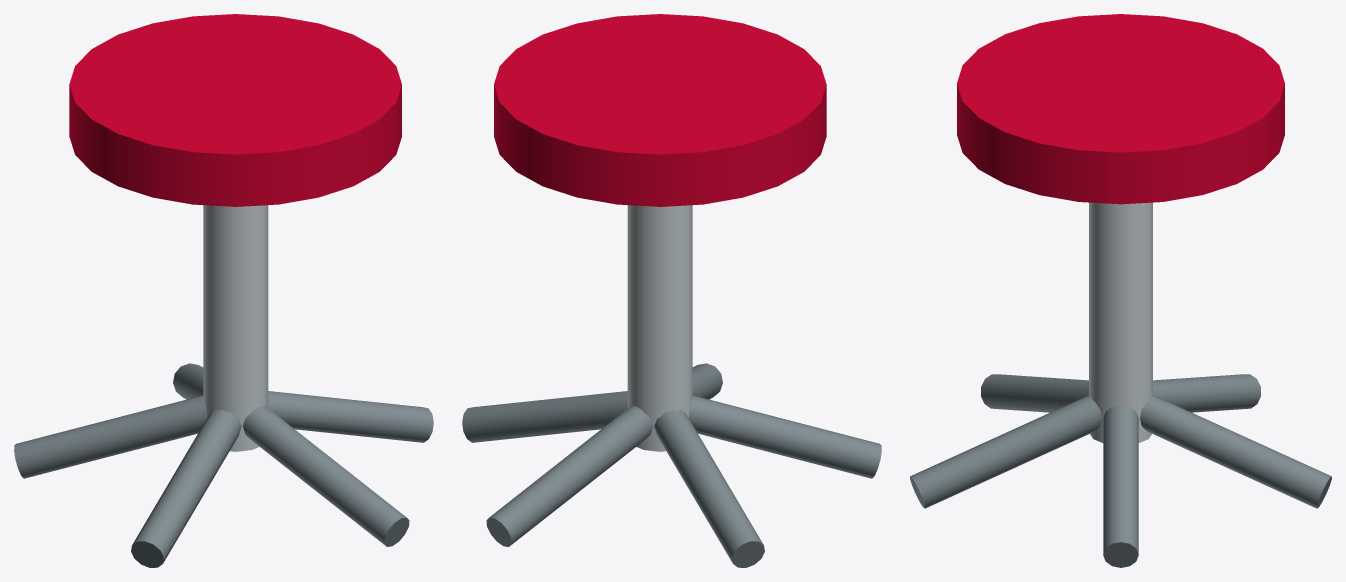
File: Lab_Stool.fbx
The picture shows the model from 3 angles, left to right: view 1: azimuth 30°, elevation 25°; view 2: azimuth 150°, elevation 25°; view 3: azimuth 270°, elevation 25°; orthographic projection.
Visible parts, largest first — view 1: Lab_Stool_Red, Lab_Stool_SteelDark, Lab_Stool_Steel; view 2: Lab_Stool_Red, Lab_Stool_SteelDark, Lab_Stool_Steel; view 3: Lab_Stool_Red, Lab_Stool_SteelDark, Lab_Stool_Steel.
Part boxes in pixels (bbox=[...]): Lab_Stool_Red: bbox=[69, 14, 401, 206]; Lab_Stool_SteelDark: bbox=[14, 363, 433, 567]; Lab_Stool_Steel: bbox=[203, 205, 268, 451]; Lab_Stool_Red: bbox=[494, 14, 826, 206]; Lab_Stool_SteelDark: bbox=[462, 363, 881, 567]; Lab_Stool_Steel: bbox=[627, 205, 692, 451]; Lab_Stool_Red: bbox=[957, 14, 1284, 204]; Lab_Stool_SteelDark: bbox=[910, 374, 1331, 567]; Lab_Stool_Steel: bbox=[1089, 202, 1152, 442].
Size of the model in its own units: 56.65 by 61.37 by 59.15.
